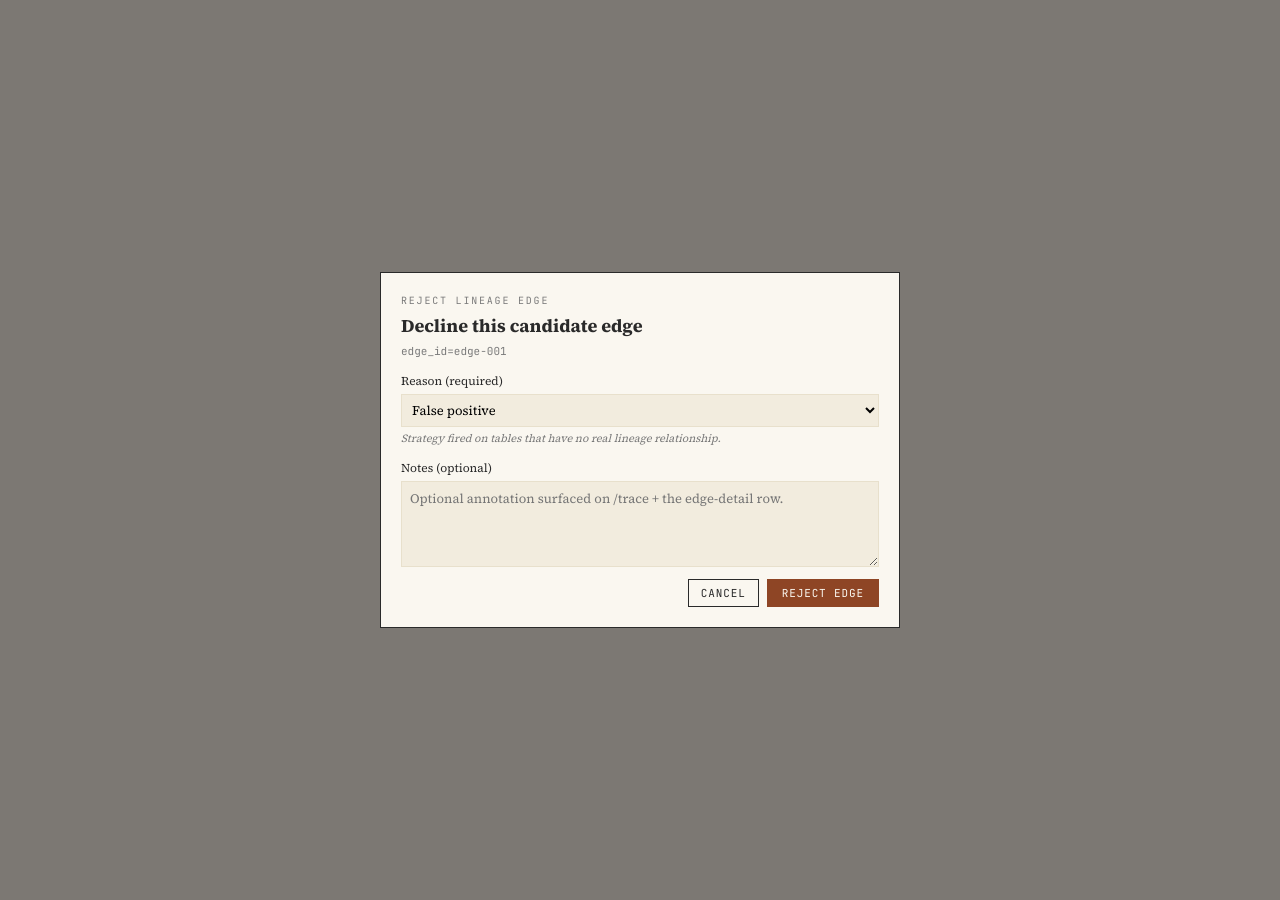
LineageRejectionModal › surfaces an error banner when the action returns ok=false
The image size is (1280, 900).
Click the button with test id "lineage-reject-submit" at (823, 593), box [767, 579, 879, 607]
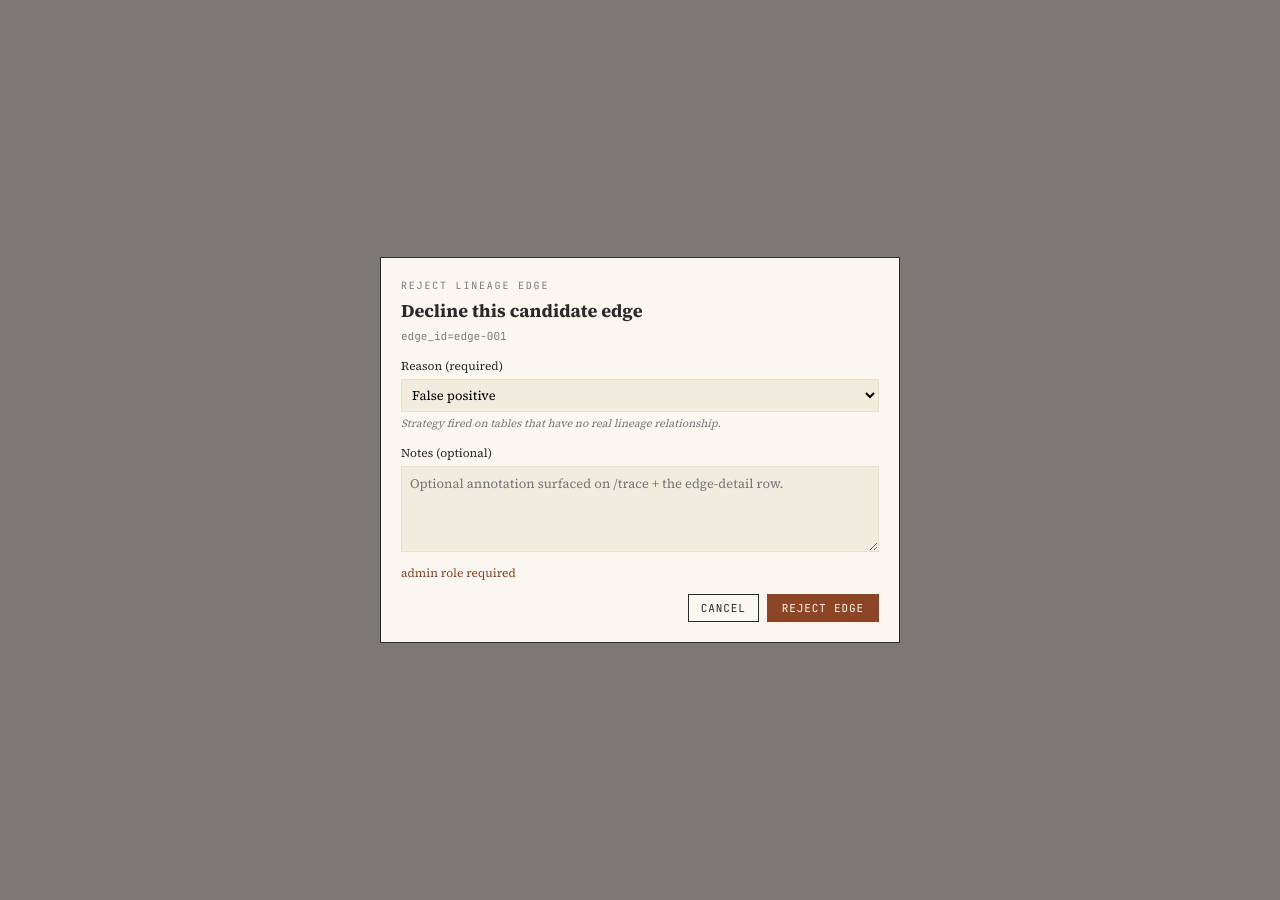
Expected: the message with test id "lineage-reject-error" reads "admin role required", [401, 565, 516, 581]
